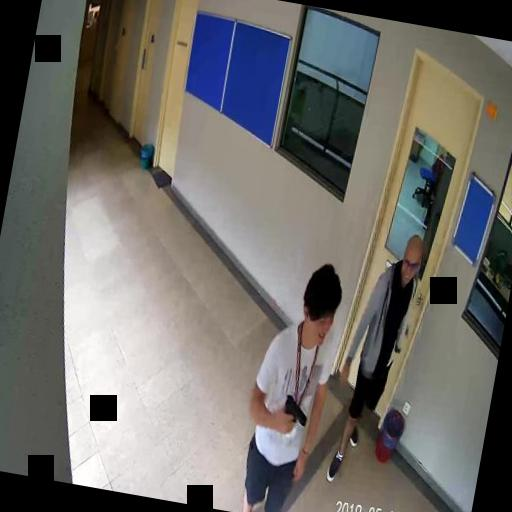Handgun: (278, 392, 308, 436)
